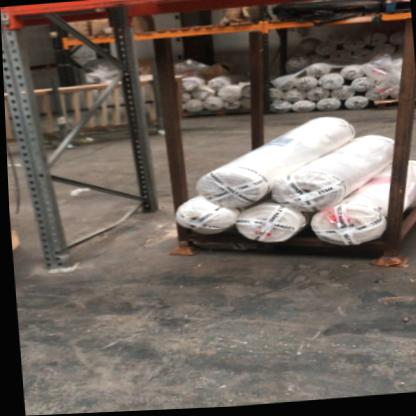vertical_damage: (40, 239, 80, 275)
